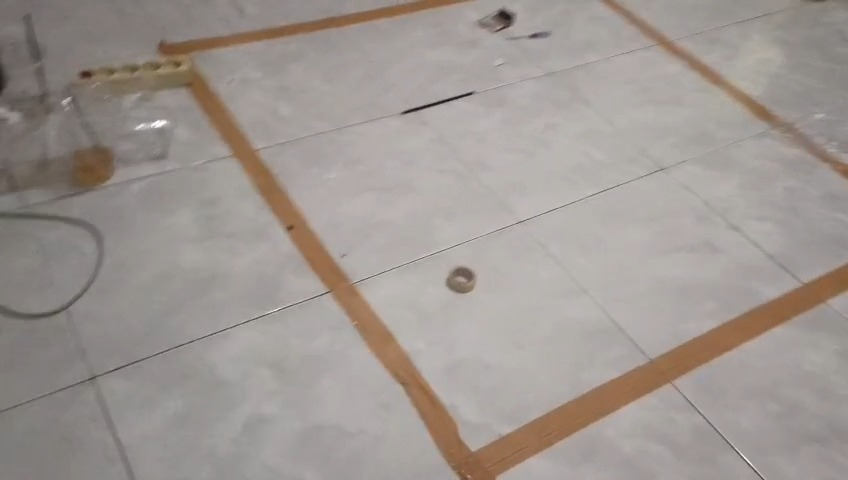floor marking: (191, 74, 847, 479), (602, 0, 847, 178), (159, 0, 465, 54)
